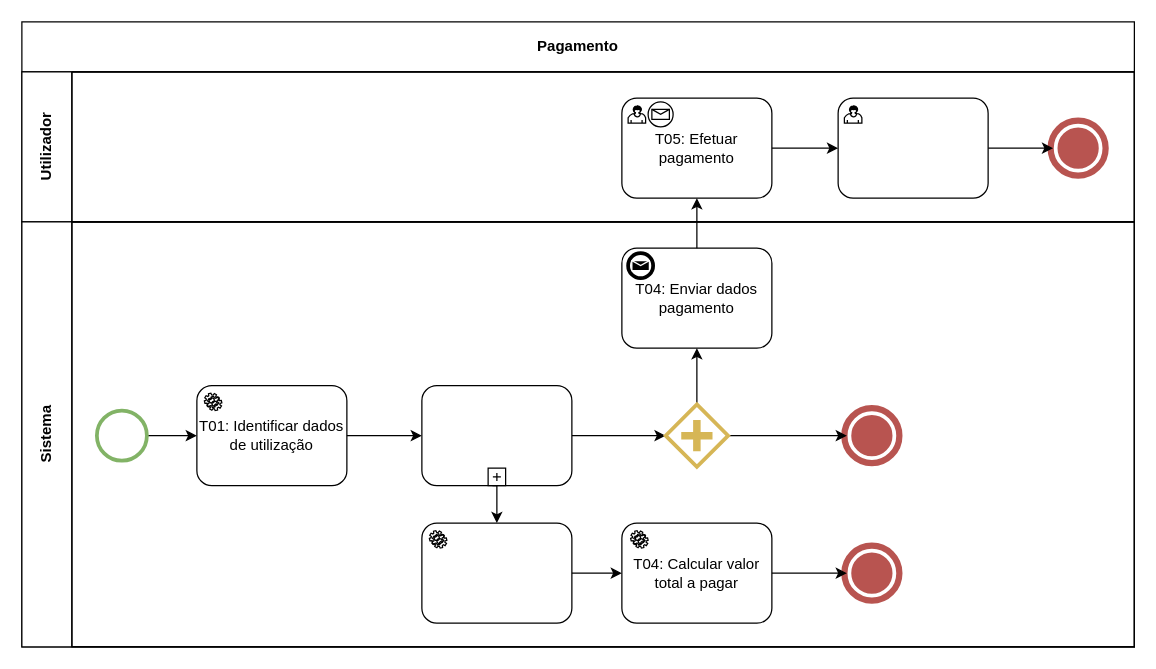
This 1156x669 diagram has some shape labels left out. The box of each missing label's shape, as (x1, y1, x2, y2) in pixels:
T02: Calcular valor a pagar: (421, 384, 572, 486)
T03: Calcular tempo de utilização: (421, 522, 572, 623)
T06: Deixar Feedback: (837, 97, 988, 198)
